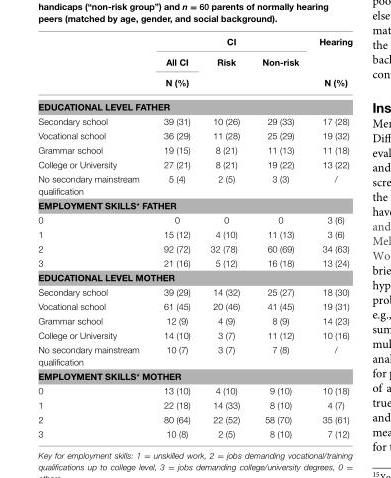table: (37, 37, 351, 438)
table column: (37, 37, 150, 438), (250, 37, 308, 438), (199, 37, 250, 438), (150, 37, 199, 438), (308, 37, 351, 438)
table column header: (37, 37, 351, 94)
table projected row header: (37, 94, 351, 114), (37, 198, 351, 212), (37, 270, 351, 284), (37, 369, 351, 383)
table row: (37, 171, 351, 198), (37, 342, 351, 369), (37, 72, 351, 94), (37, 51, 351, 72), (37, 94, 351, 114), (37, 128, 351, 143), (37, 212, 351, 227), (37, 241, 351, 256), (37, 284, 351, 299), (37, 313, 351, 328), (37, 397, 351, 412), (37, 37, 351, 51), (37, 114, 351, 128), (37, 143, 351, 157), (37, 157, 351, 171), (37, 198, 351, 212), (37, 227, 351, 241), (37, 256, 351, 270), (37, 270, 351, 284), (37, 299, 351, 313), (37, 328, 351, 342), (37, 369, 351, 383), (37, 383, 351, 397), (37, 412, 351, 426), (37, 426, 351, 438)
table spanning cell: (250, 51, 308, 94), (308, 37, 351, 94), (150, 37, 308, 51), (199, 51, 250, 94), (150, 51, 199, 94)
